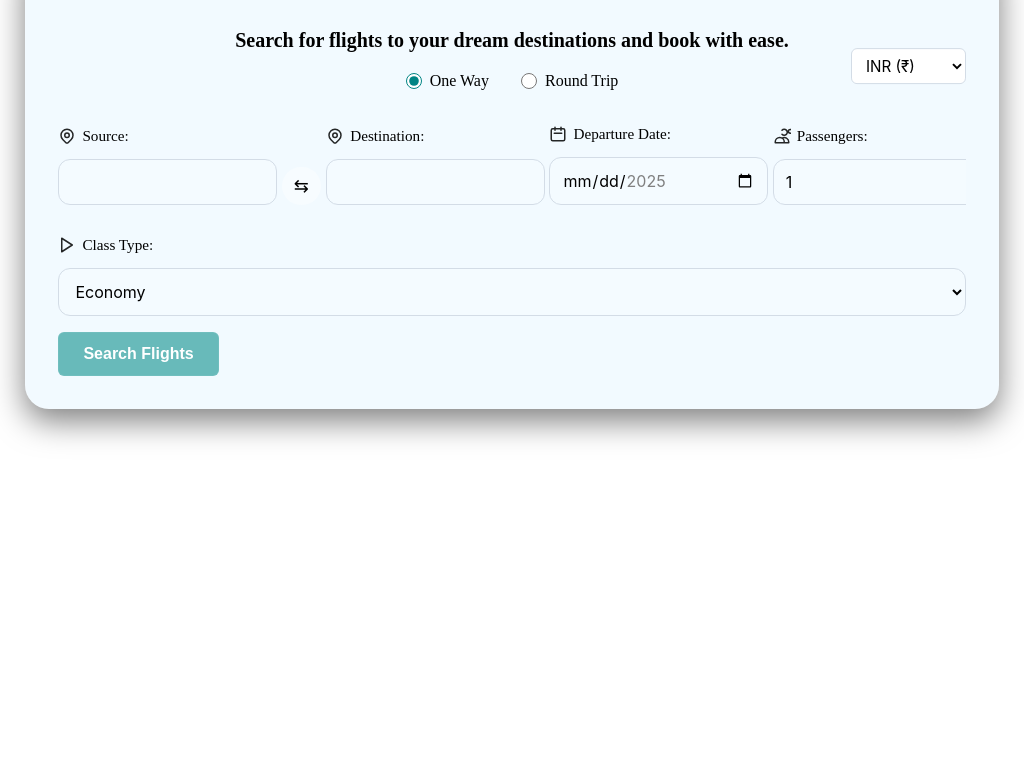
Test for FlightSearchForm /> › should submit the form and display no flights found message
This screenshot has width=1024, height=768.
In the field labelled "Source:": (168, 182) [58,159,277,205], type "Mumbai"
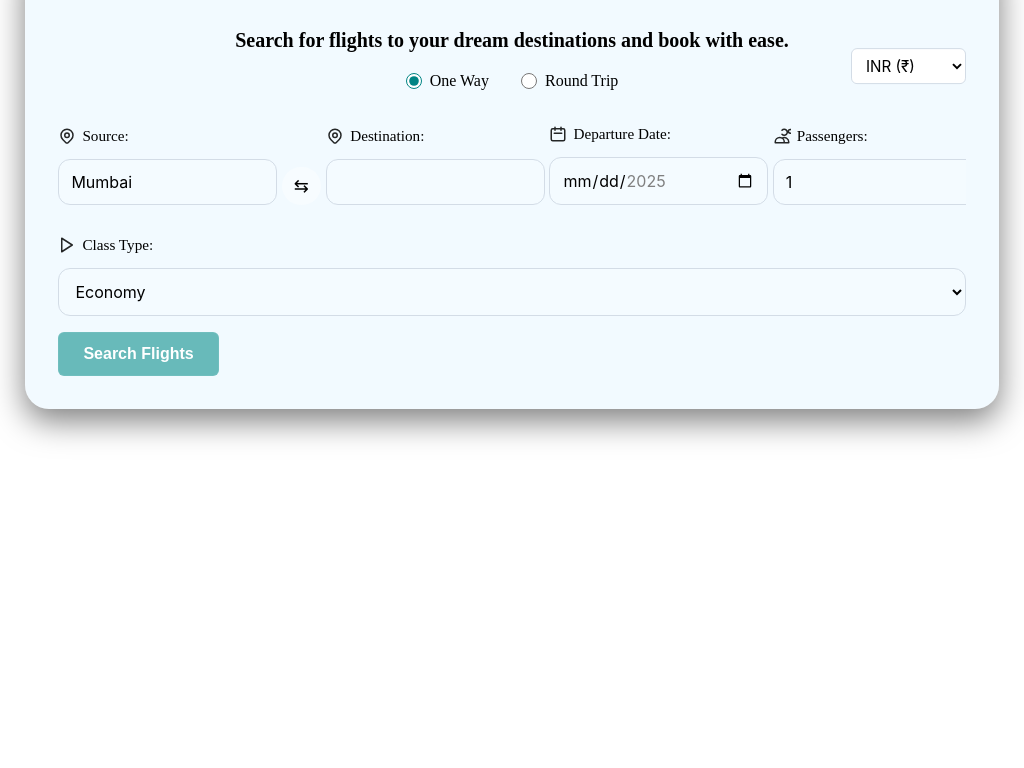
In the field labelled "Destination:": (436, 182) [326,159,545,205], type "Delhi"
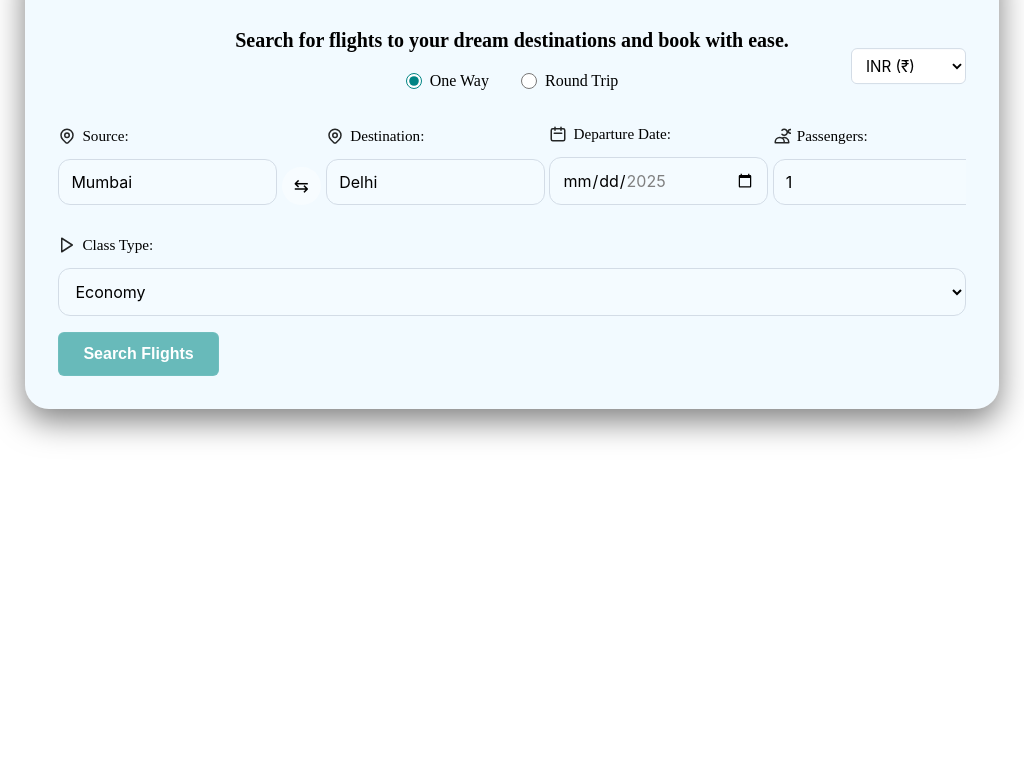
In the date field labelled "Departure Date:": (659, 181) [550,157,768,205], type "2025-08-10"
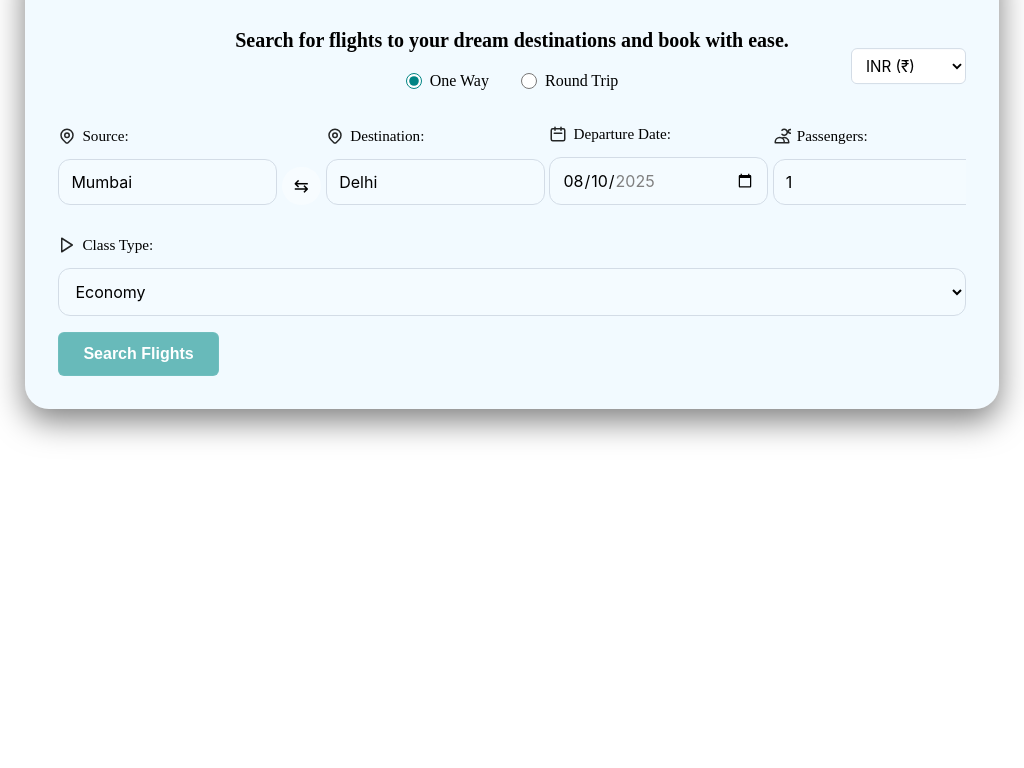
Click the radio button labelled "Round Trip": (529, 81) [521,73,537,89]
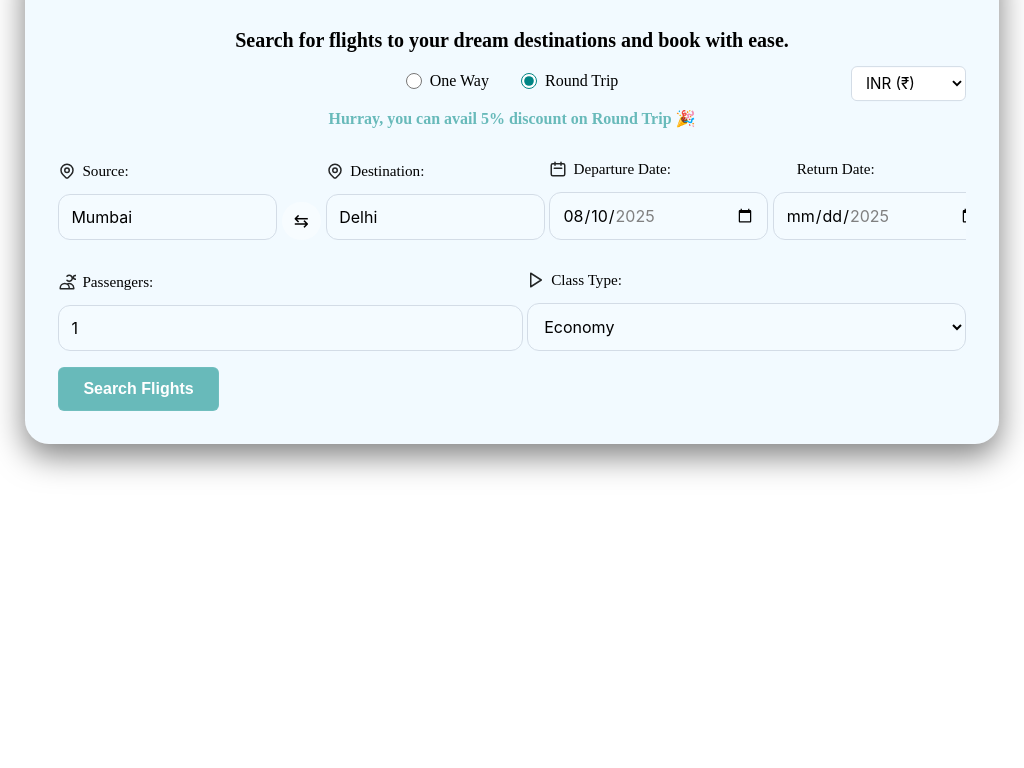
In the date field labelled "Return Date:": (882, 216) [773,192,992,240], type "2025-08-15"
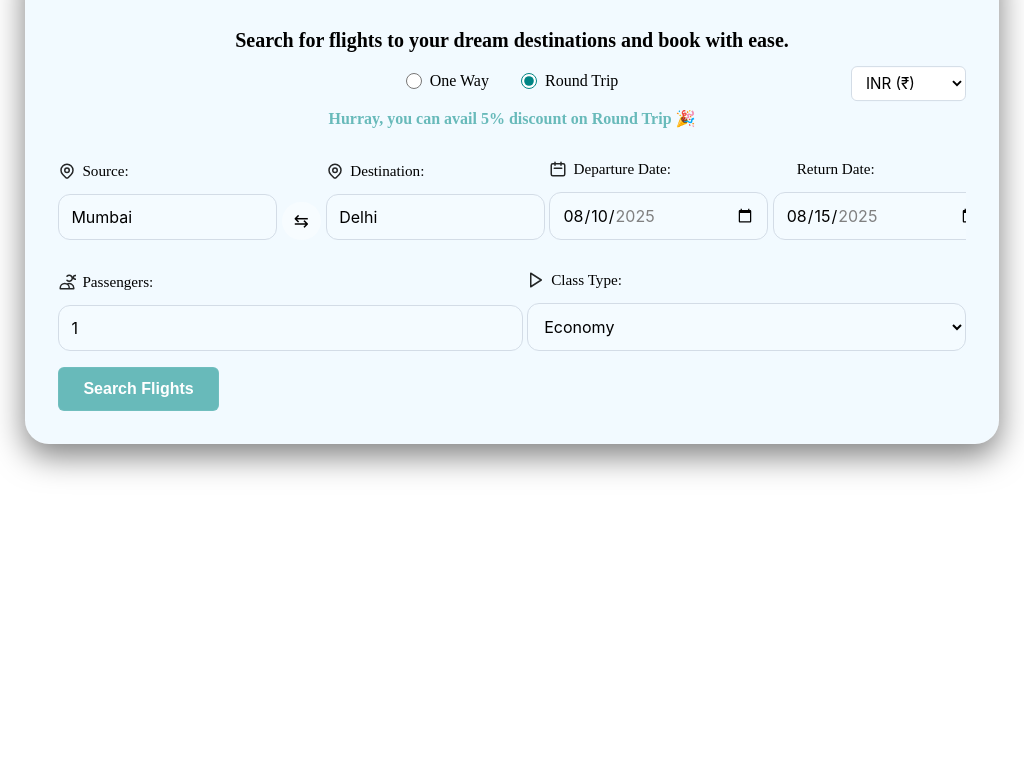
Submit the form from the button "Search Flights", box [58,367,219,411]
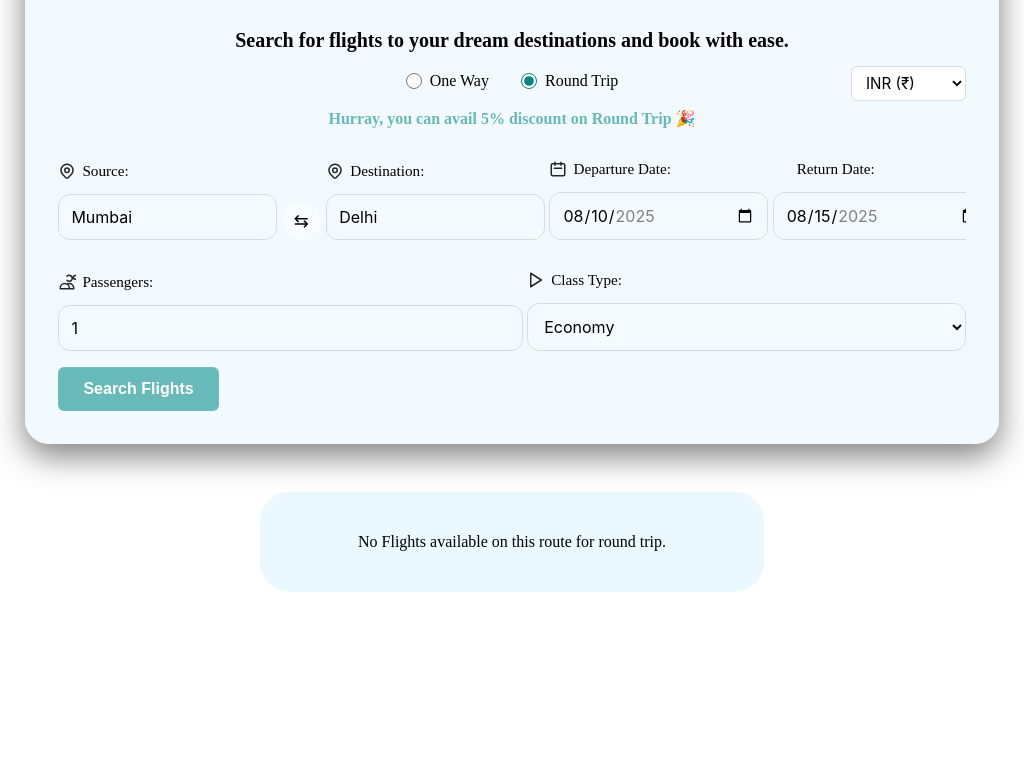
Check: the text "No Flights available on this route for round trip." is shown, box [358,533,666,551]
